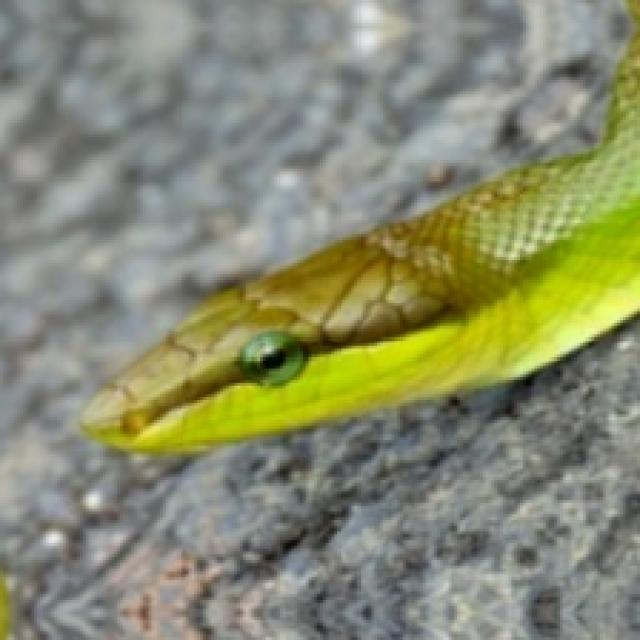red-tailed green ratsnake: (80, 0, 637, 451)
